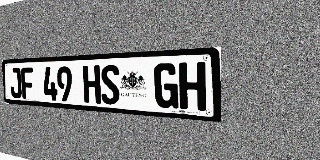4: (43, 66, 58, 101)
9: (57, 66, 73, 102)
F: (21, 67, 34, 99)
G: (154, 63, 179, 109)
H: (179, 62, 206, 111), (83, 65, 101, 104)
J: (9, 68, 22, 98)
S: (100, 65, 120, 105)
